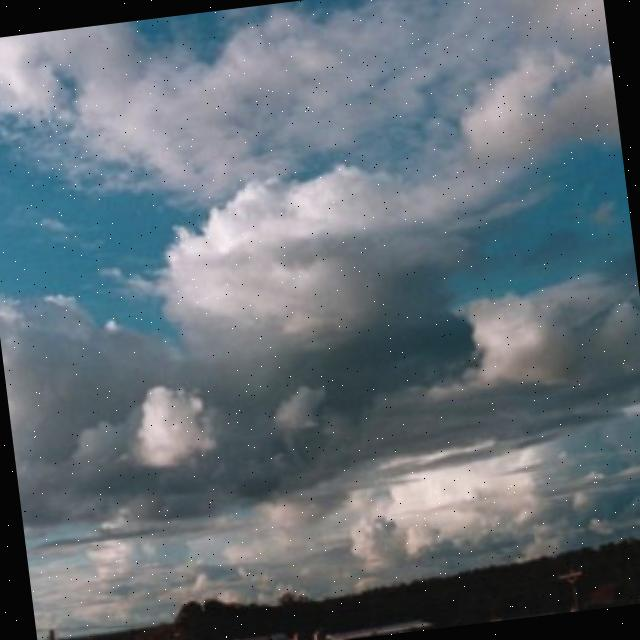Cu: (1, 64, 640, 578)
